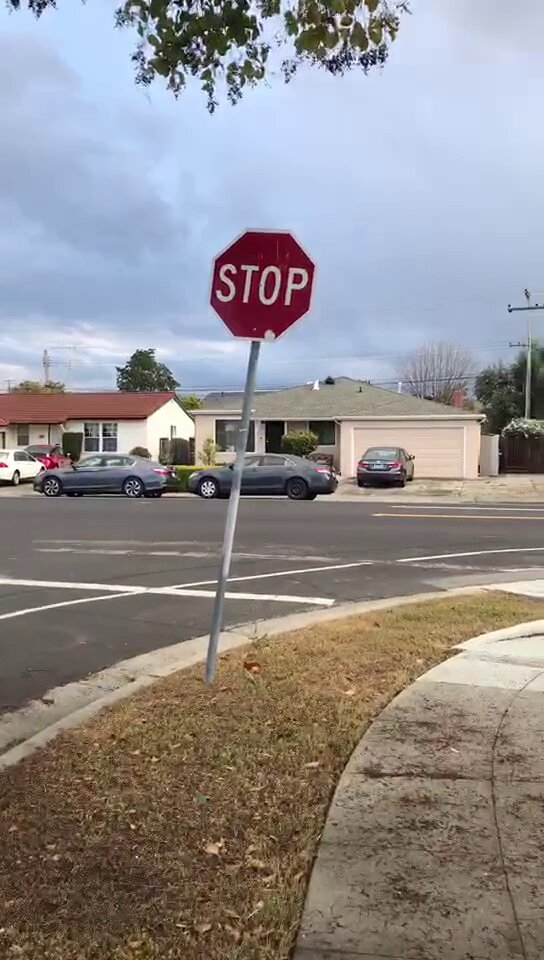stop_sign: (213, 231, 316, 341)
